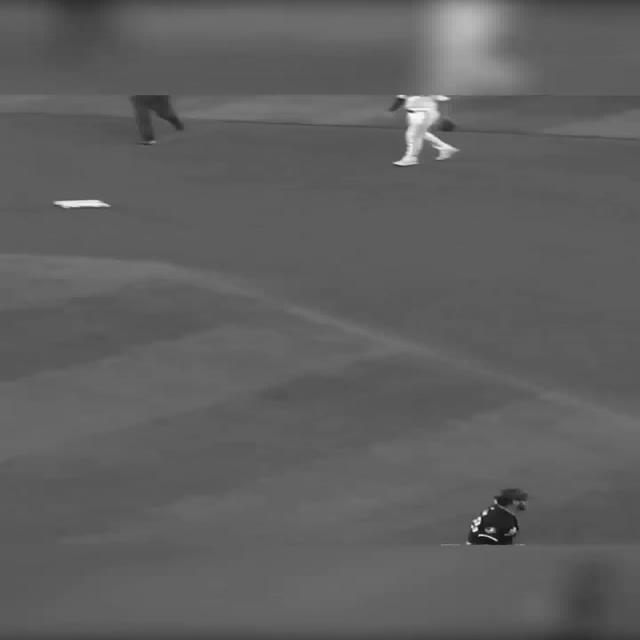base: (55, 201, 112, 208)
baseball_glove: (436, 118, 455, 132)
shoe: (435, 147, 459, 160), (169, 116, 183, 130), (392, 160, 418, 166), (139, 140, 156, 144)
